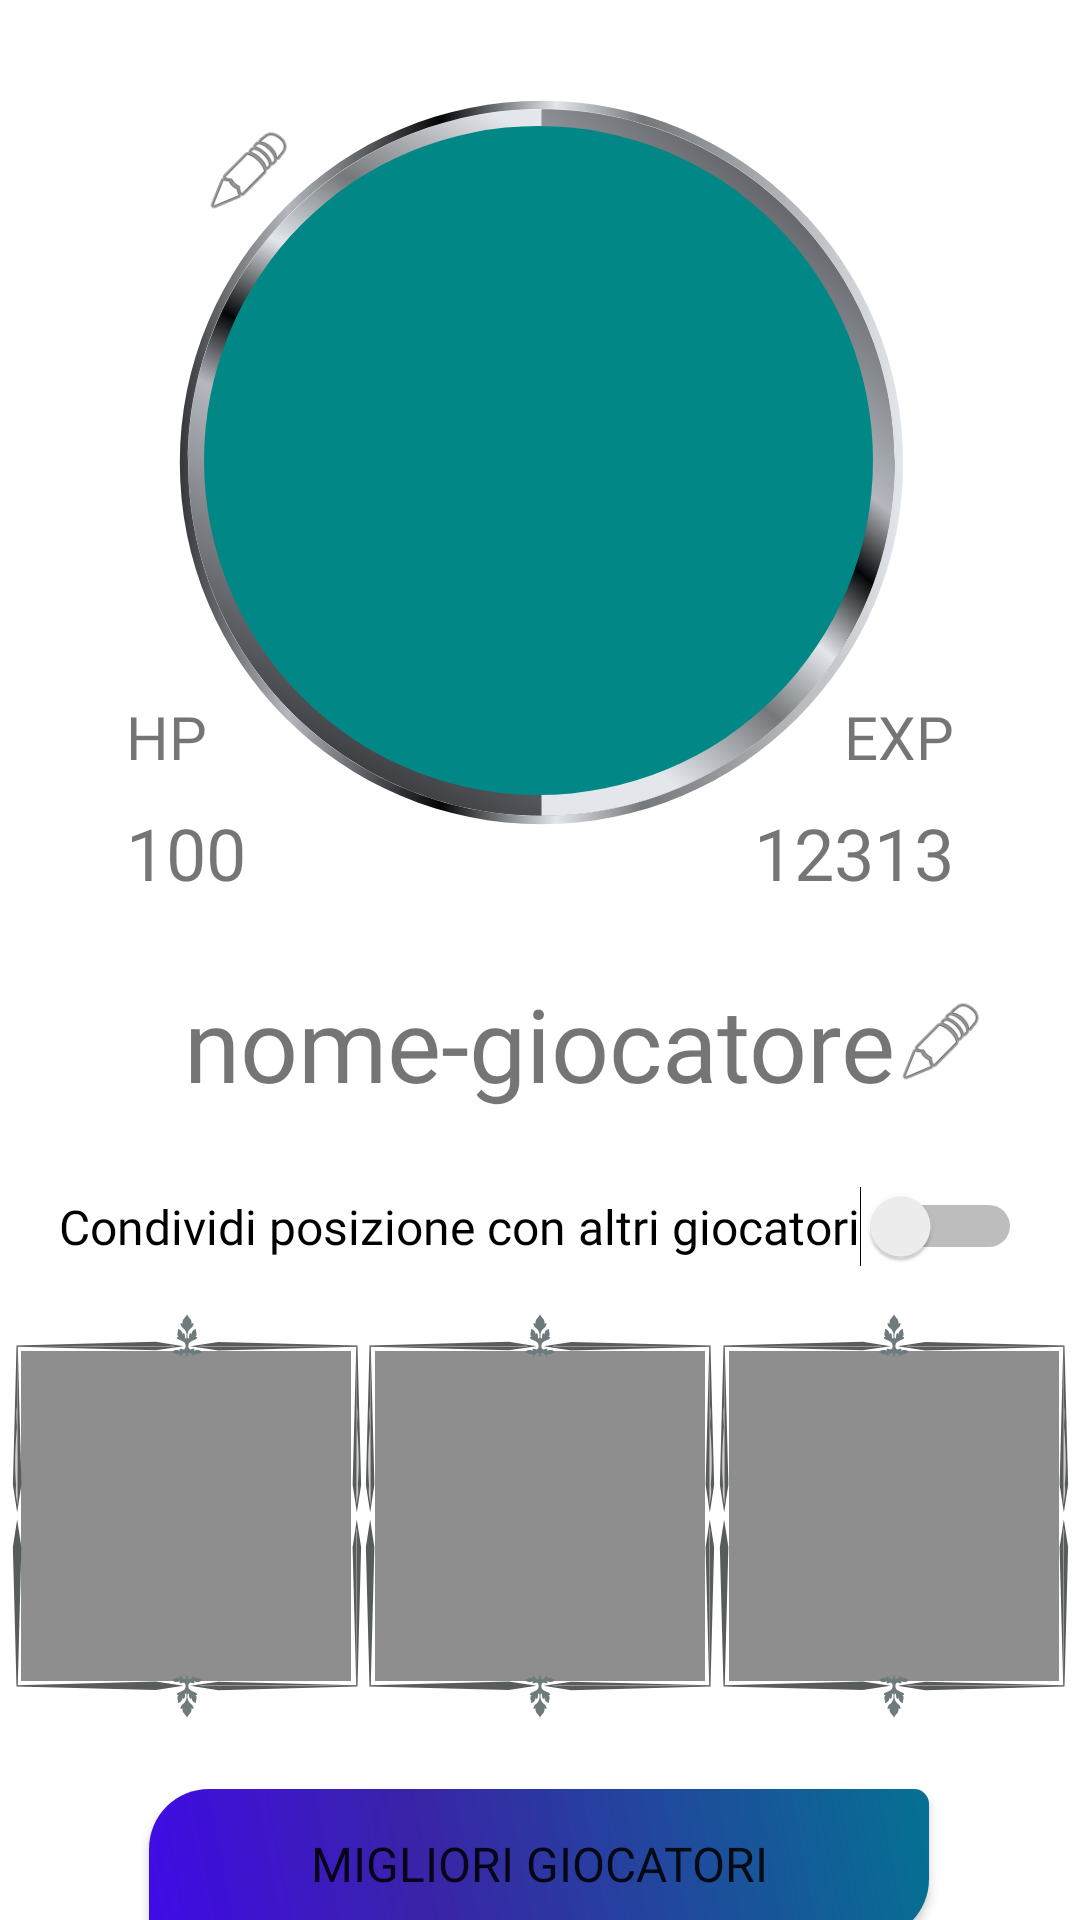

Point at icon controls on the screen. Image size 1080 × 1920, points as [x,y].
edit: [248,170], [940,1041]
